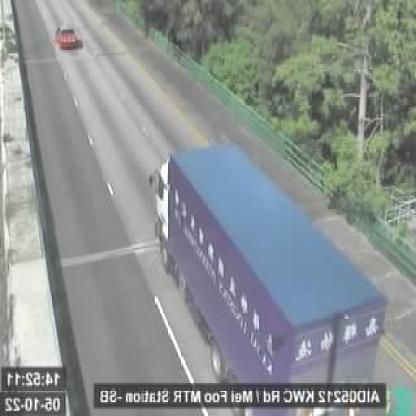Car: (56, 21, 80, 48)
Truck: (150, 146, 388, 383)
